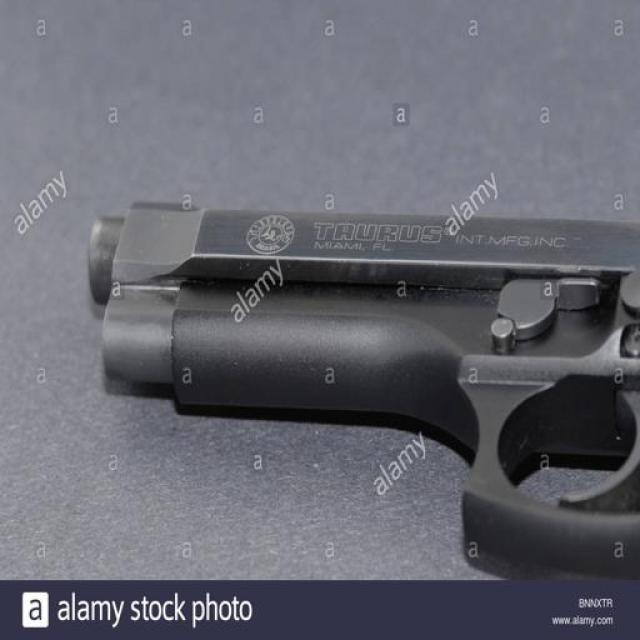pistol: (90, 191, 639, 583)
